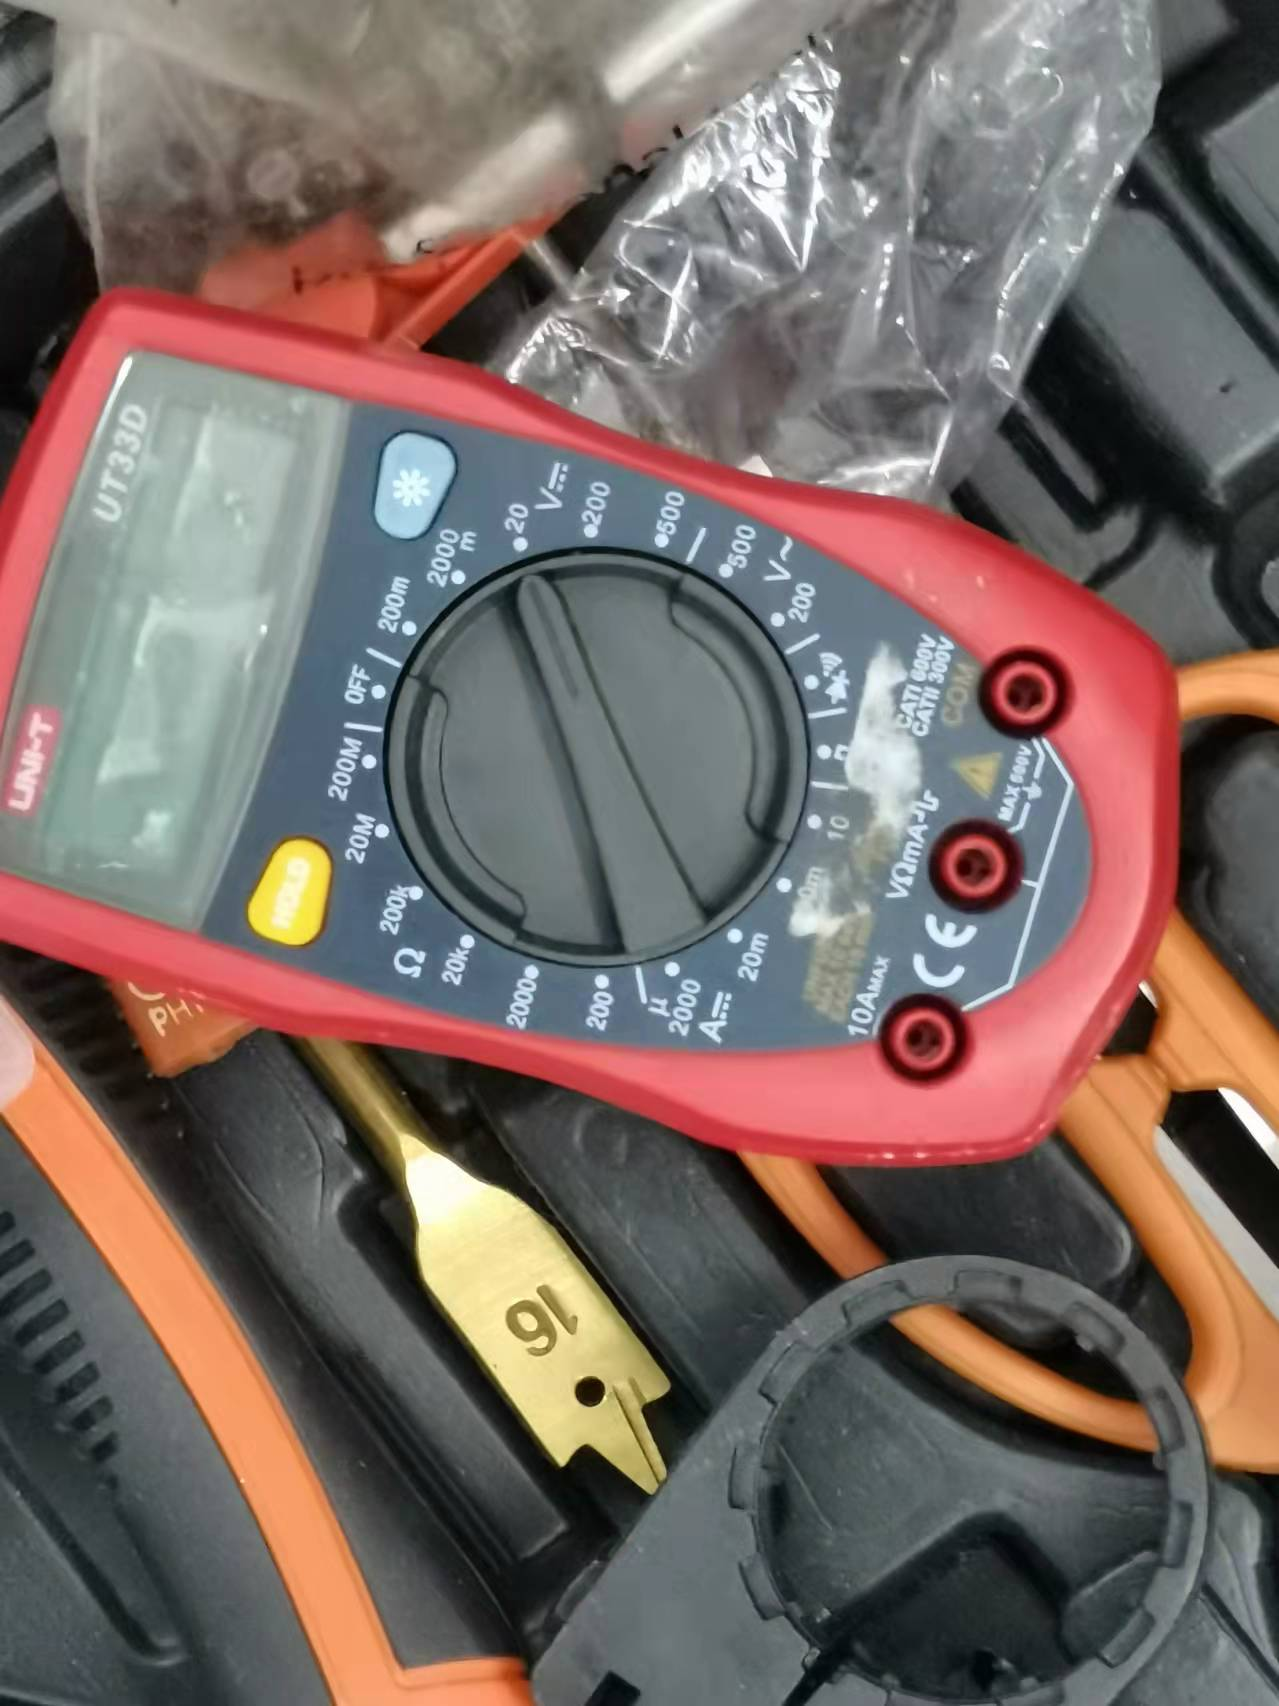Multimeter: (1, 275, 1236, 1178)
